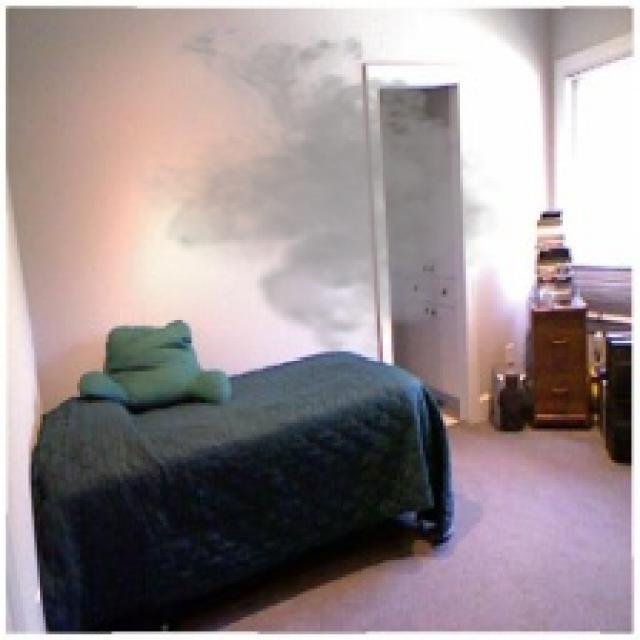Smoke: (109, 14, 512, 357)
